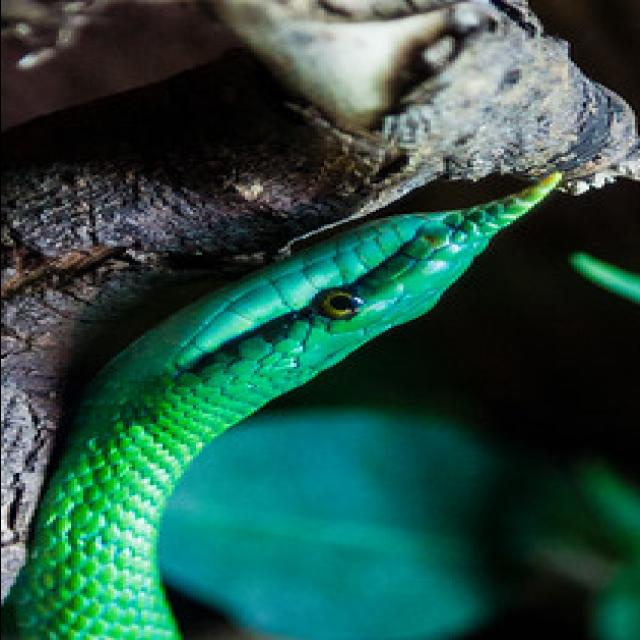Snake: (0, 167, 573, 640)
